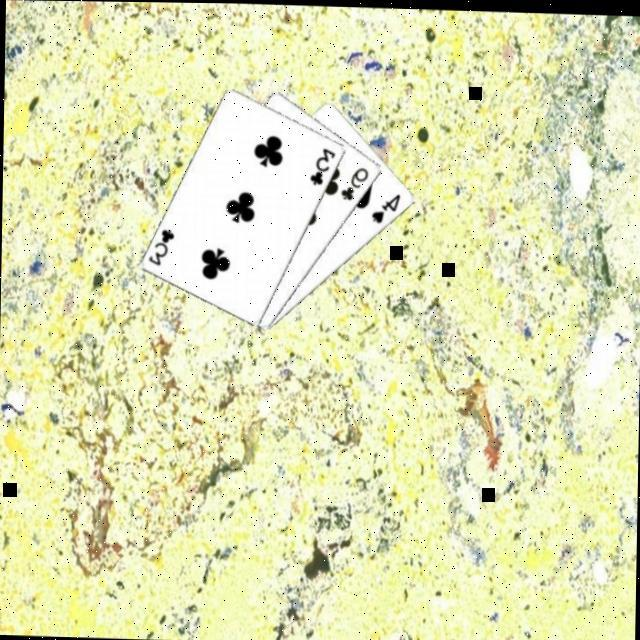3C: (305, 140, 338, 184), (144, 222, 176, 266)
4S: (367, 186, 402, 224)
9C: (336, 160, 371, 200)
